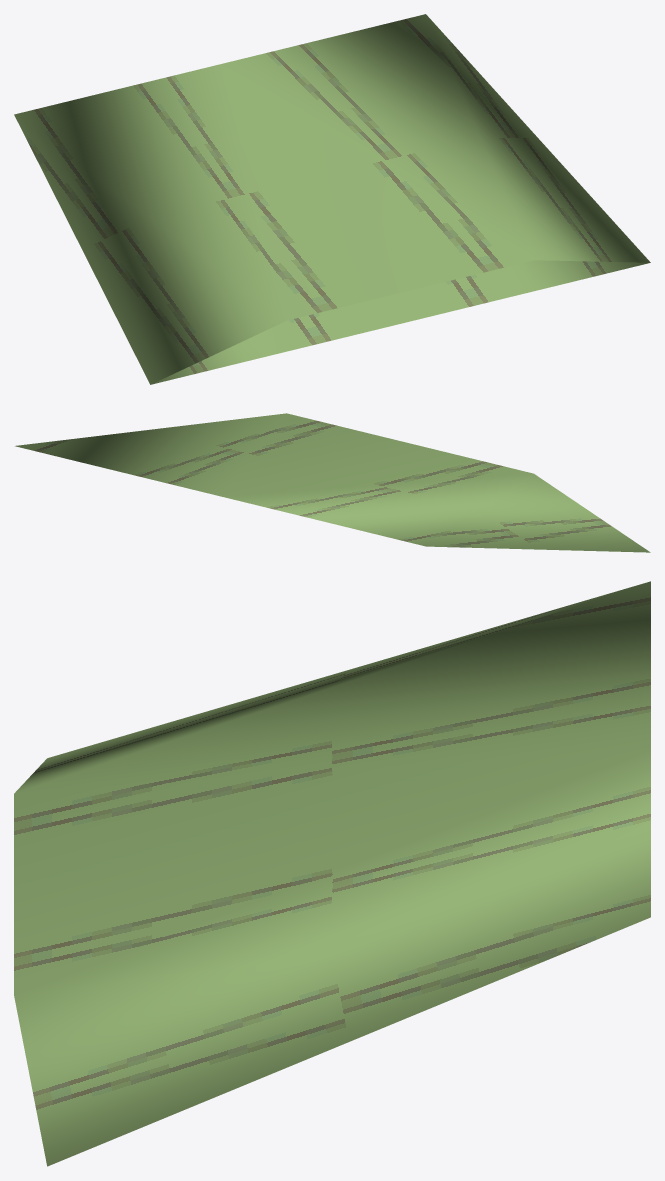
The model's file is 2287skirt00_r.gltf.
The picture shows the model from 3 angles, top to bottom: view 1: azimuth 30°, elevation 25°; view 2: azimuth 150°, elevation 25°; view 3: azimuth 270°, elevation 25°; orthographic projection. The views are drawn at different scales.
Parts seen in each view (by area): view 1: 2287skirt00_r; view 2: 2287skirt00_r; view 3: 2287skirt00_r.
Boxes of the visible parts, box(x1,y1,x2,y2) form: 2287skirt00_r: box(14, 14, 650, 384); 2287skirt00_r: box(15, 413, 650, 552); 2287skirt00_r: box(14, 581, 650, 1166).
Bounding box in the file's own units: 0.9868 × 0.24 × 0.6504.
1 material, 1 textured.
